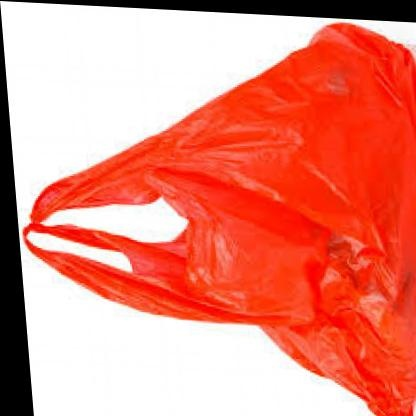trash: (24, 24, 415, 415)
